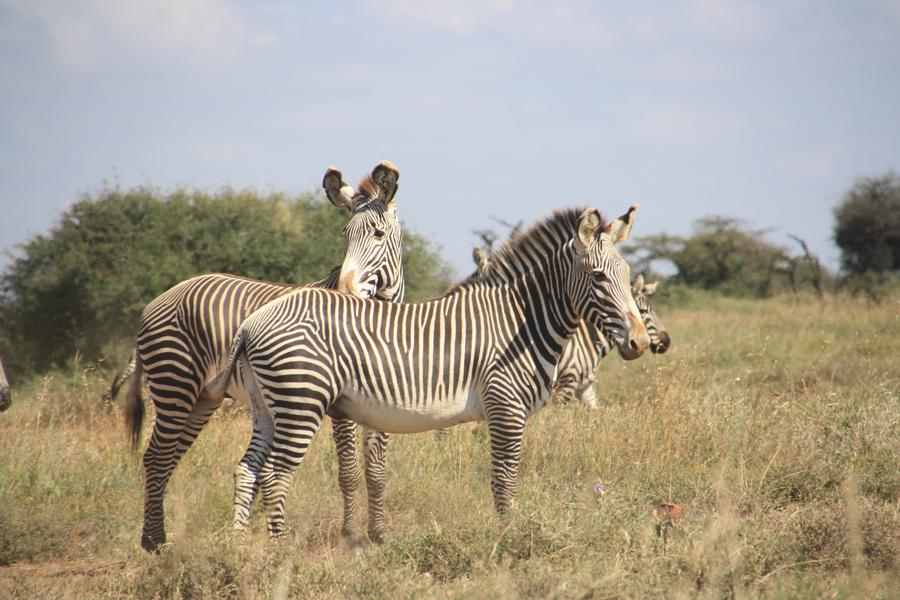zebra_grevys: (251, 295, 533, 414)
